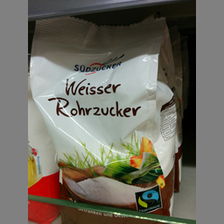sugar: (30, 17, 180, 224)
